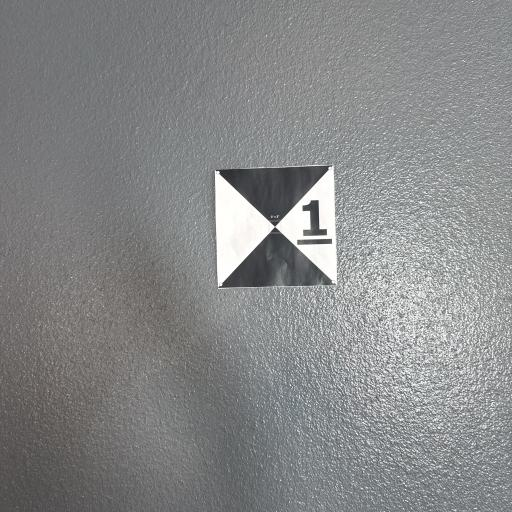target1: (216, 167, 332, 288)
